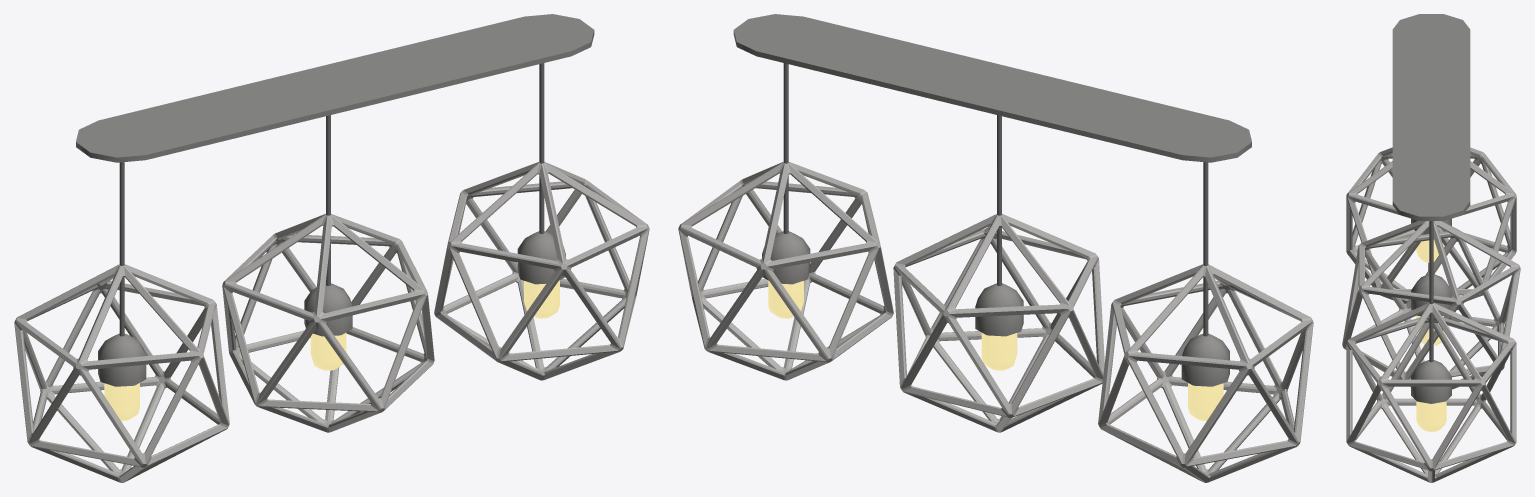
File: Light_Icosahedron2.glb
The picture shows the model from 3 angles, left to right: view 1: azimuth 30°, elevation 25°; view 2: azimuth 150°, elevation 25°; view 3: azimuth 270°, elevation 25°; orthographic projection. The views are drawn at different scales.
Parts seen in each view (by area): view 1: Light_Icosahedron2; view 2: Light_Icosahedron2; view 3: Light_Icosahedron2.
Boxes of the visible parts, box(x1,y1,x2,y2) form: Light_Icosahedron2: box(14, 14, 649, 482); Light_Icosahedron2: box(678, 14, 1313, 482); Light_Icosahedron2: box(1342, 14, 1520, 482).
Size of the model in its own units: 1.63 by 0.8798 by 0.5022.
